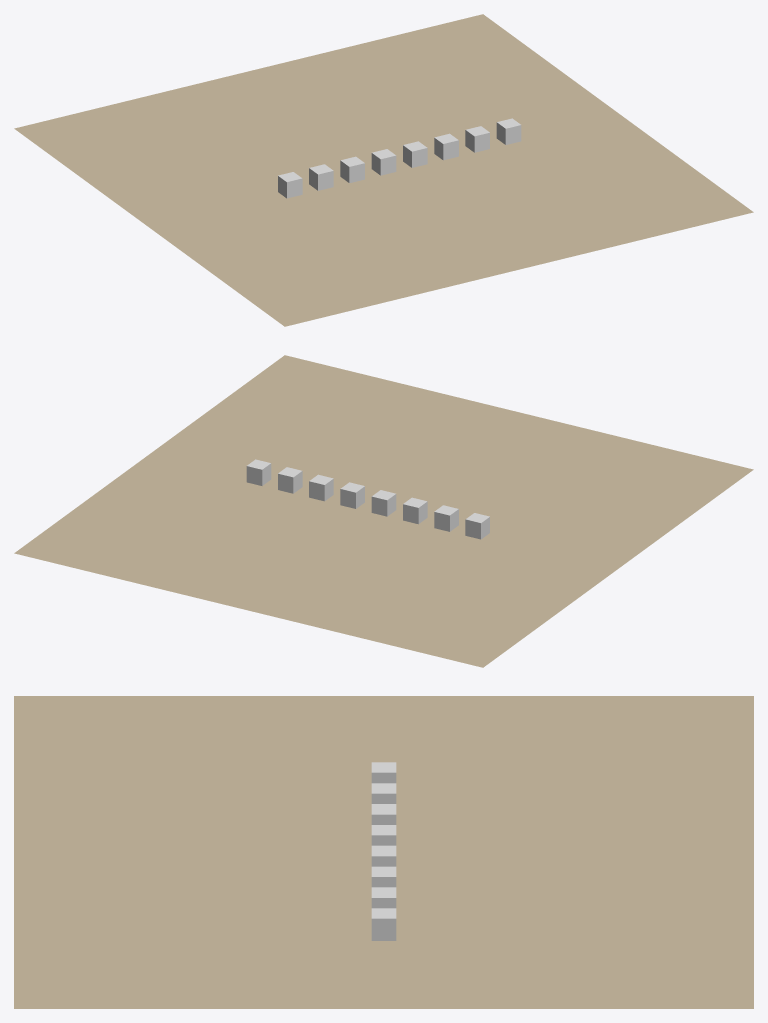
The model's file is paired-animation.glb.
3 views of the same model, one above another, from view 1: azimuth 30°, elevation 25°; view 2: azimuth 150°, elevation 25°; view 3: azimuth 270°, elevation 25° (orthographic). The views are drawn at different scales.
Visible parts, largest first — view 1: Ground, TestCube_0, TestCube_4, TestCube_1, TestCube_7, TestCube_2, TestCube_6, TestCube_5, TestCube_3; view 2: Ground, TestCube_0, TestCube_4, TestCube_1, TestCube_7, TestCube_2, TestCube_6, TestCube_5, TestCube_3; view 3: Ground, TestCube_4, TestCube_1, TestCube_3, TestCube_7, TestCube_2, TestCube_0, TestCube_5, TestCube_6.
Part boxes in pixels (x1,y1,x2,y2): Ground: (14, 14, 753, 326); TestCube_0: (371, 149, 396, 175); TestCube_4: (496, 118, 521, 144); TestCube_1: (403, 141, 427, 167); TestCube_7: (278, 172, 302, 198); TestCube_2: (434, 133, 458, 160); TestCube_6: (309, 164, 333, 190); TestCube_5: (340, 156, 364, 183); TestCube_3: (465, 126, 489, 152); Ground: (14, 355, 753, 667); TestCube_0: (371, 490, 396, 516); TestCube_4: (246, 459, 271, 485); TestCube_1: (340, 482, 364, 508); TestCube_7: (465, 513, 489, 539); TestCube_2: (309, 474, 333, 501); TestCube_6: (434, 505, 458, 531); TestCube_5: (403, 497, 427, 524); TestCube_3: (278, 467, 302, 493); Ground: (14, 696, 753, 1008); TestCube_4: (371, 908, 396, 940); TestCube_1: (371, 845, 396, 866); TestCube_3: (371, 887, 396, 908); TestCube_7: (371, 762, 396, 783); TestCube_2: (371, 866, 396, 887); TestCube_0: (371, 825, 396, 845); TestCube_5: (371, 804, 396, 824); TestCube_6: (371, 783, 396, 803).
Bounding box in the file's own units: 30 × 1 × 30.
